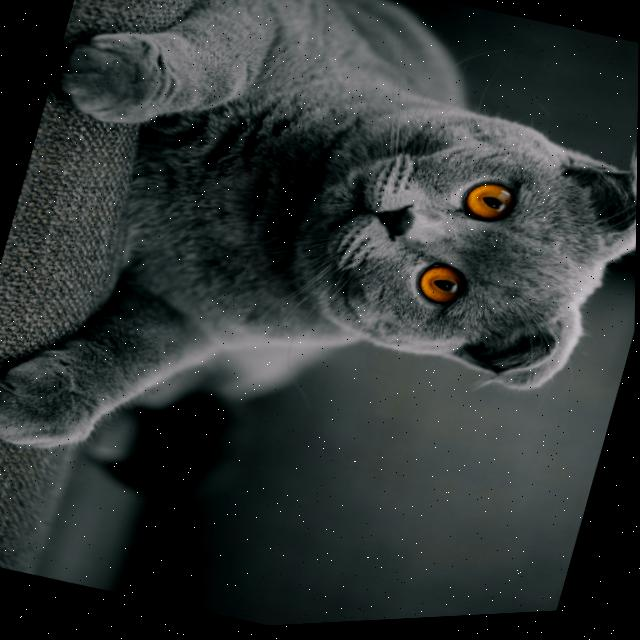Scottish Fold: (0, 0, 640, 620)
